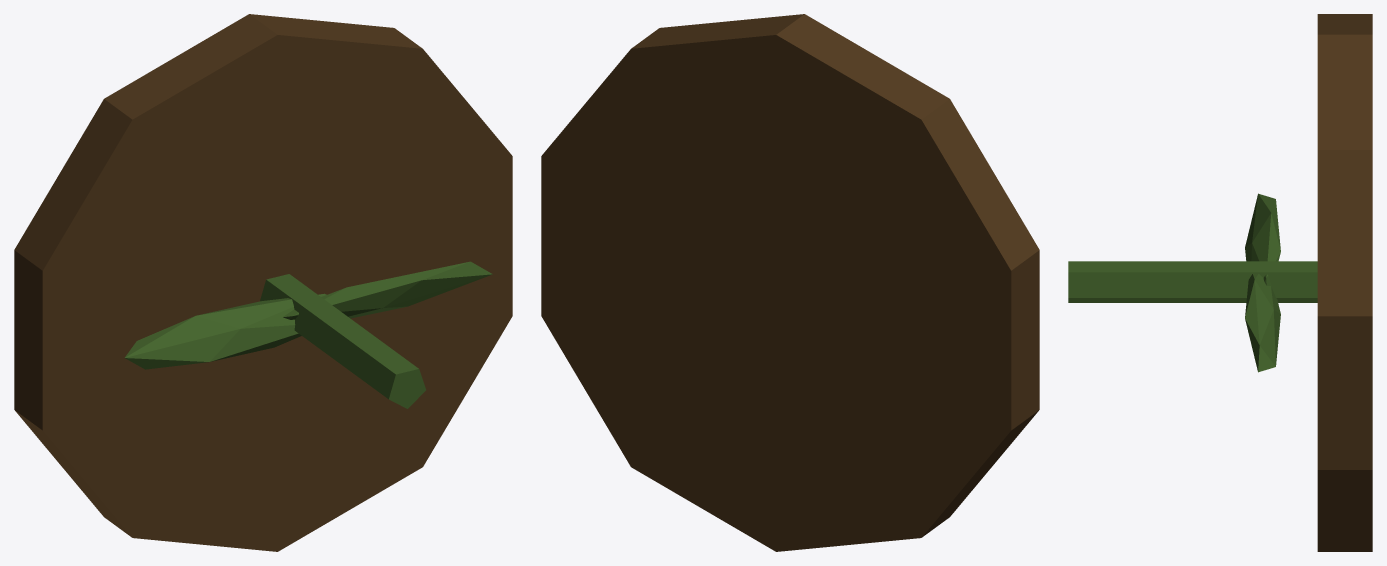
The model's file is 2_growing.obj.
3 views of the same model, side by side, from view 1: azimuth 30°, elevation 25°; view 2: azimuth 150°, elevation 25°; view 3: azimuth 270°, elevation 25° (orthographic). The views are drawn at different scales.
Visible parts, largest first — view 1: daisy_2_growing; view 2: daisy_2_growing; view 3: daisy_2_growing.
Part boxes in pixels (bbox=[...]): daisy_2_growing: bbox=[14, 14, 512, 551]; daisy_2_growing: bbox=[541, 14, 1039, 551]; daisy_2_growing: bbox=[1068, 14, 1372, 551].
Bounding box in the file's own units: 0.1902 × 0.2 × 0.111.
